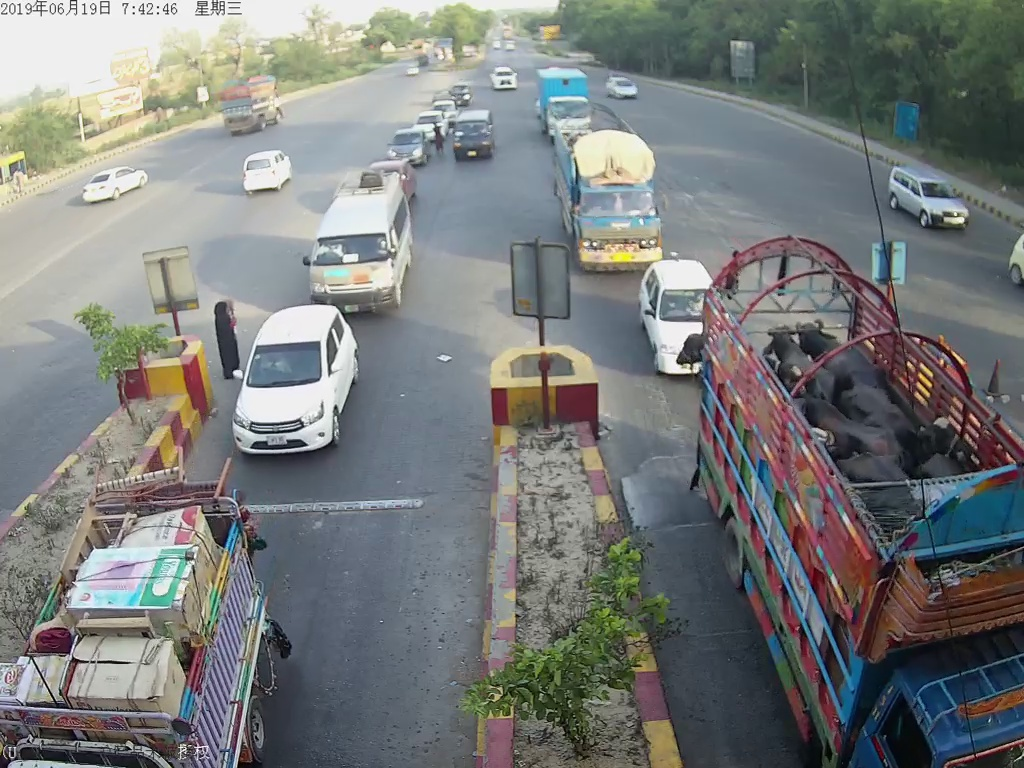Cat-1: (236, 300, 365, 470)
Cat-2: (309, 181, 407, 305), (641, 263, 699, 373)
Cat-4: (558, 117, 668, 253)
